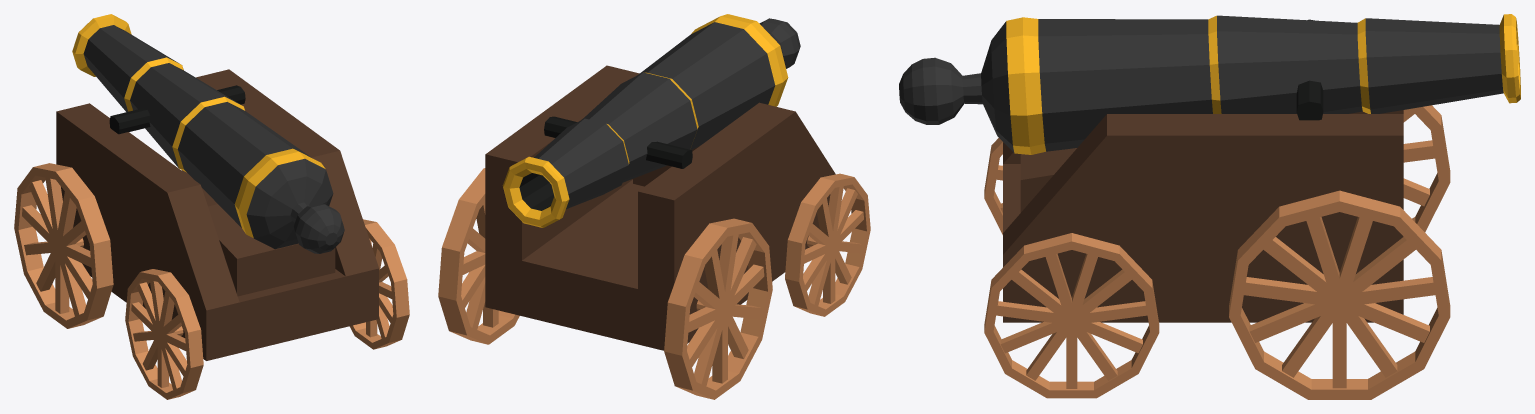
File: cannon.fbx
3 renders of one model, left to right at view 1: azimuth 30°, elevation 25°; view 2: azimuth 150°, elevation 25°; view 3: azimuth 270°, elevation 25°, orthographic. The views are drawn at different scales.
Visible parts, largest first — view 1: cannon_0.012, barrel, cannon_0, cannon_0.001, cannon_0.013, cannon_0.003, cannon_0.004, cannon_0.009, cannon_0.015, cannon_0.010; view 2: cannon_0.012, barrel, cannon_0, cannon_0.001, cannon_0.003, cannon_0.006, cannon_0.004, cannon_0.007, cannon_0.015; view 3: cannon_0.012, barrel, cannon_0.007, cannon_0.006, cannon_0.010, cannon_0.009, cannon_0, cannon_0.013, cannon_0.001, cannon_0.015, cannon_0.003.
Part boxes in pixels (<box>): cannon_0.012: <box>56,69,378,360</box>; barrel: <box>72,14,344,253</box>; cannon_0: <box>14,163,113,328</box>; cannon_0.001: <box>22,177,92,316</box>; cannon_0.013: <box>208,204,335,296</box>; cannon_0.003: <box>125,269,203,399</box>; cannon_0.004: <box>131,280,187,389</box>; cannon_0.009: <box>349,219,409,349</box>; cannon_0.015: <box>109,85,245,134</box>; cannon_0.010: <box>366,238,393,338</box>; cannon_0.012: <box>485,65,835,350</box>; barrel: <box>502,14,800,227</box>; cannon_0: <box>664,218,772,399</box>; cannon_0.001: <box>687,234,764,385</box>; cannon_0.003: <box>785,173,870,316</box>; cannon_0.006: <box>438,168,519,344</box>; cannon_0.004: <box>803,186,863,305</box>; cannon_0.007: <box>461,202,498,329</box>; cannon_0.015: <box>544,116,692,168</box>; cannon_0.012: <box>1003,110,1403,322</box>; barrel: <box>899,14,1520,154</box>; cannon_0.007: <box>1244,217,1435,388</box>; cannon_0.006: <box>1229,190,1450,399</box>; cannon_0.010: <box>996,253,1147,388</box>; cannon_0.009: <box>984,233,1159,398</box>; cannon_0: <box>1410,105,1450,232</box>; cannon_0.013: <box>1020,148,1076,212</box>; cannon_0.001: <box>1403,109,1434,206</box>; cannon_0.015: <box>1296,19,1323,120</box>; cannon_0.003: <box>984,138,1002,234</box>.
Bounding box in the file's own units: 5.64 × 5.55 × 10.19.
1 material, 1 textured.
